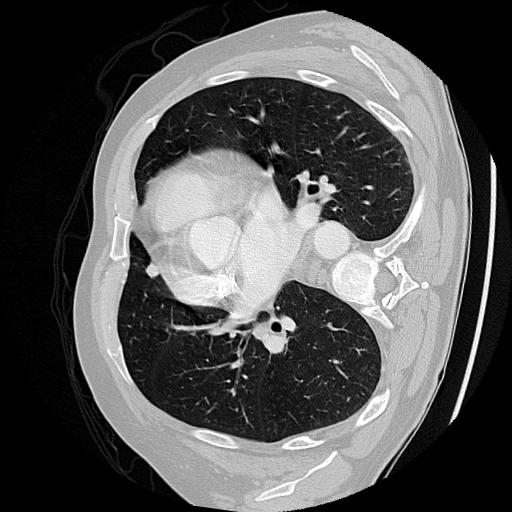nodule: (143, 263, 163, 283)
